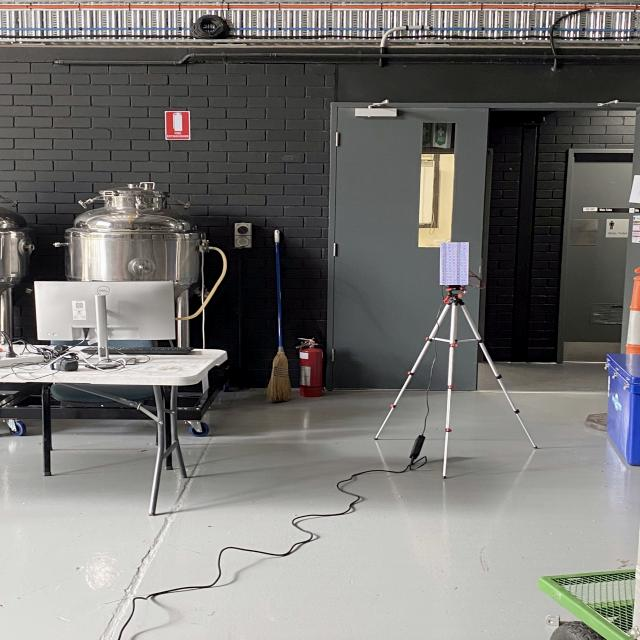matrix: (439, 242, 470, 286)
